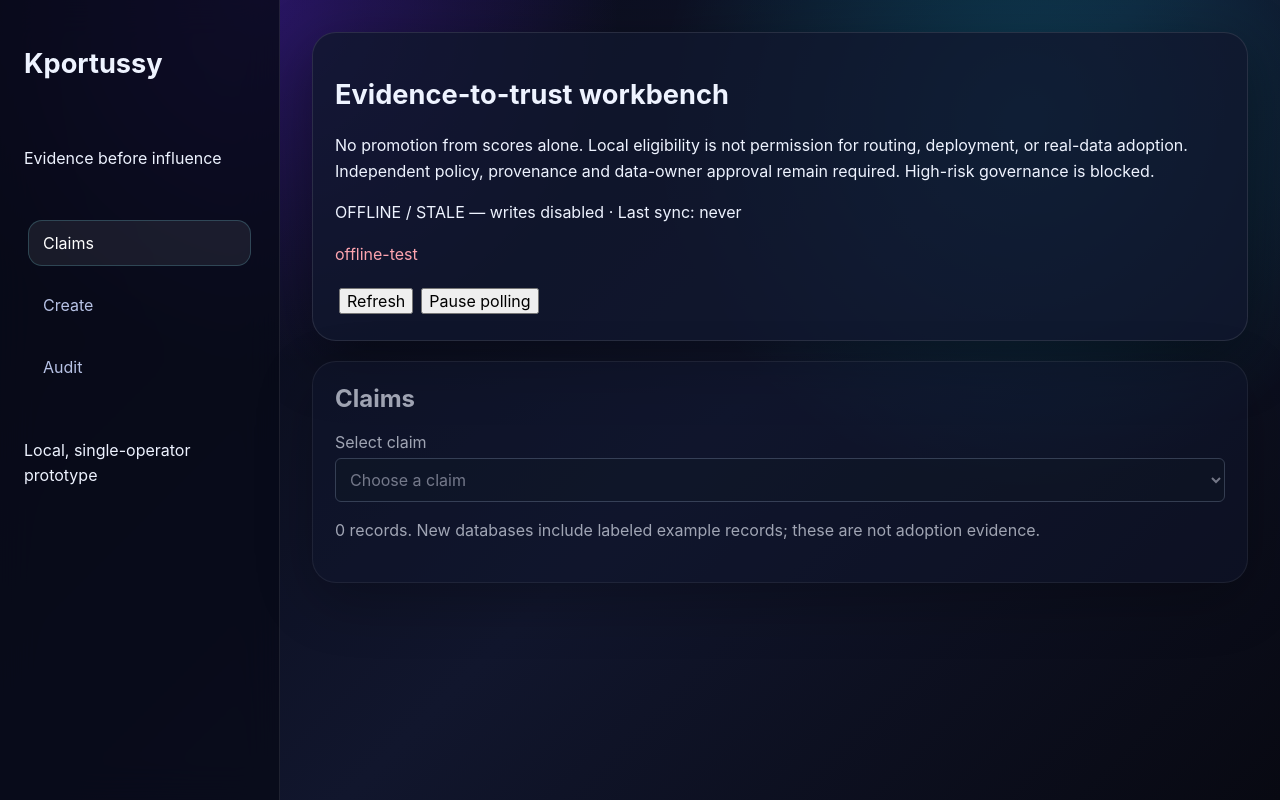
Test: offline mode has no fabricated fallback and disables mutation
The width and height of the screenshot is (1280, 800).
Expected: the text "OFFLINE / STALE — writes disabled · Last sync: never" is shown, 335,202 -> 742,222
What coordinates should you click on to do the following:
click the button "Create"
I would click on:
 (140, 305)
Its box is 28,282 -> 251,328.
(page scrolled)
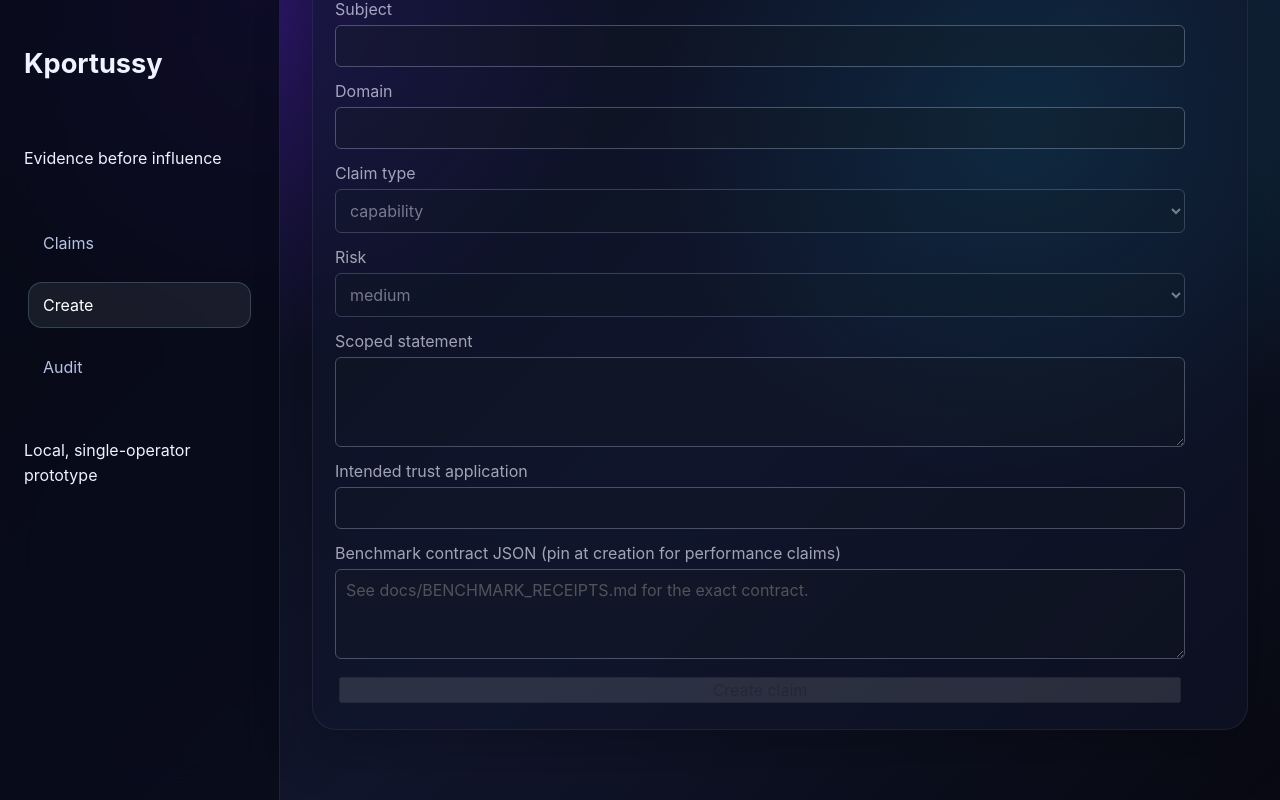
Expected: the button "Create claim" is disabled, 339,677 -> 1181,703
